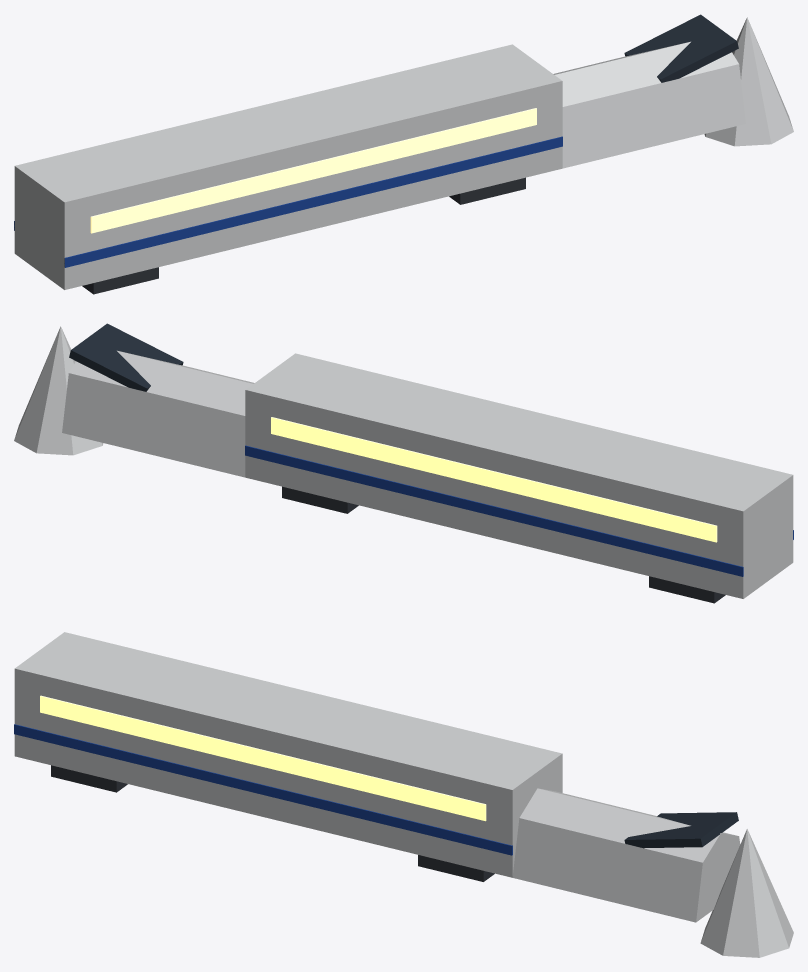
Rendered from shinkansen.glb.
The picture shows the model from 3 angles, top to bottom: view 1: azimuth 30°, elevation 25°; view 2: azimuth 150°, elevation 25°; view 3: azimuth 330°, elevation 25°; orthographic projection.
Visible parts, largest first — view 1: shinkansen; view 2: shinkansen; view 3: shinkansen.
Boxes of the visible parts, box(x1,y1,x2,y2) form: shinkansen: box(14, 14, 793, 294); shinkansen: box(14, 323, 793, 603); shinkansen: box(14, 632, 793, 957).
Bounding box in the file's own units: 28.6 × 4.2 × 3.4.
